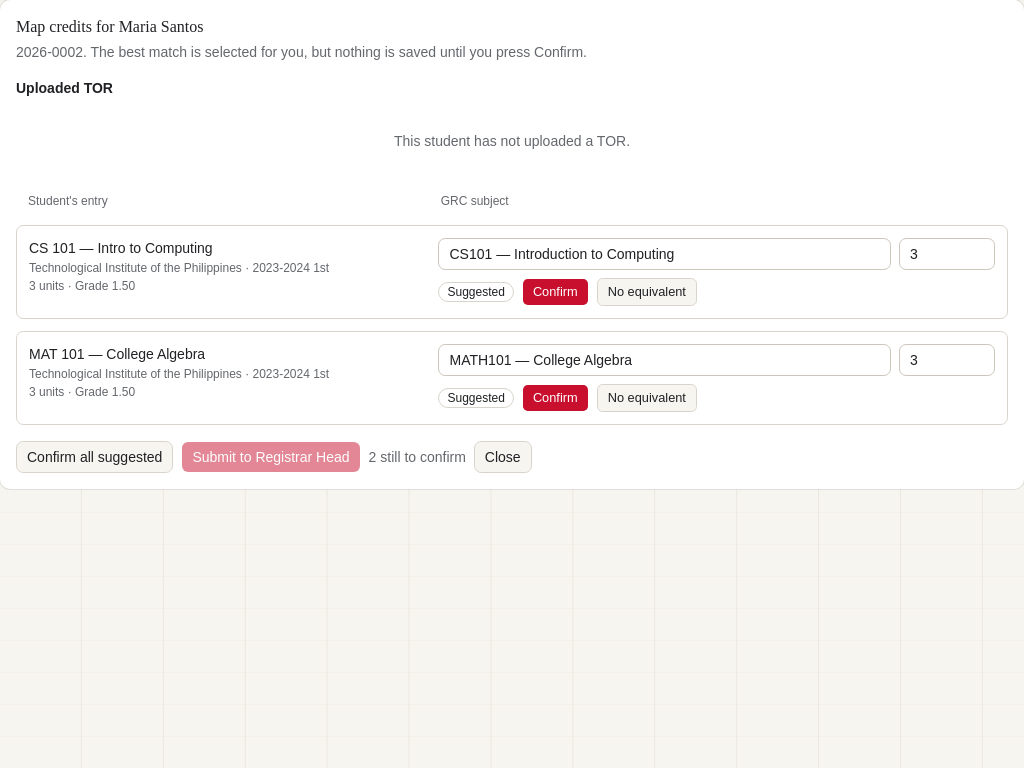
Test: StudentCreditMappingPanel › saves a row's mapping, with its units, only when the chair confirms it
This screenshot has width=1024, height=768.
Expected: the dropdown named "Subject for CS 101 — Intro to Computing" holds "CS101 — Introduction to Computing", [438,238,891,270]
Click the button with aria-label "Confirm CS 101 — Intro to Computing". click: (555, 292)
box: [522,278,589,306]
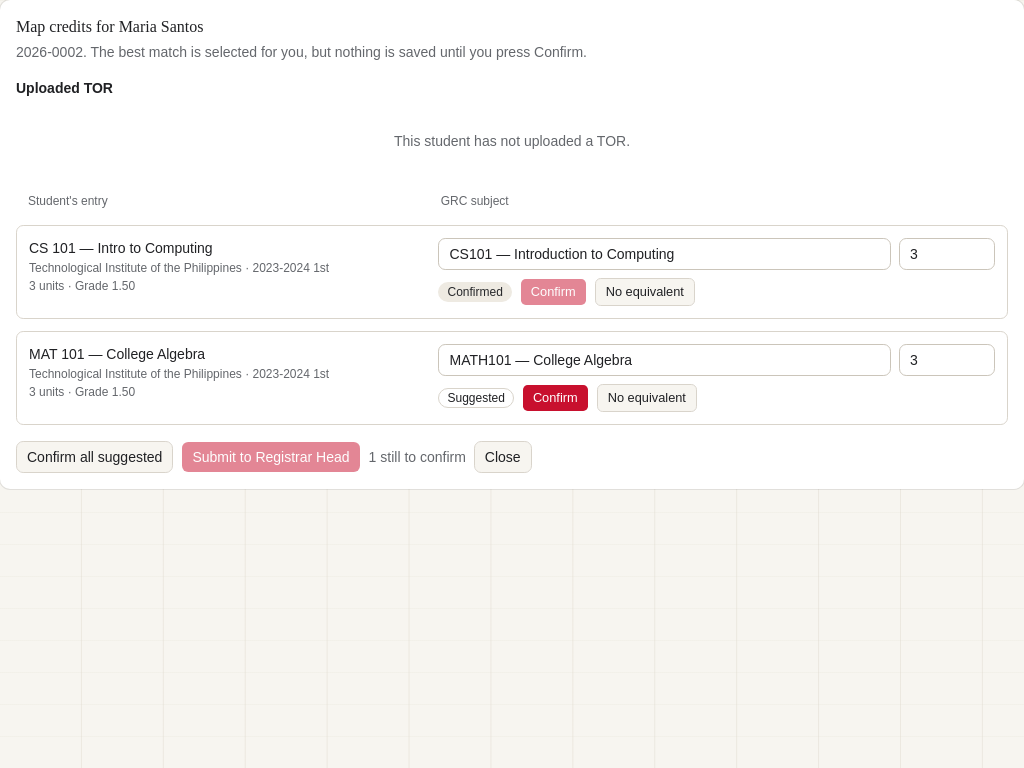
Expected: the text "Confirmed" is shown, [438,282,512,302]
